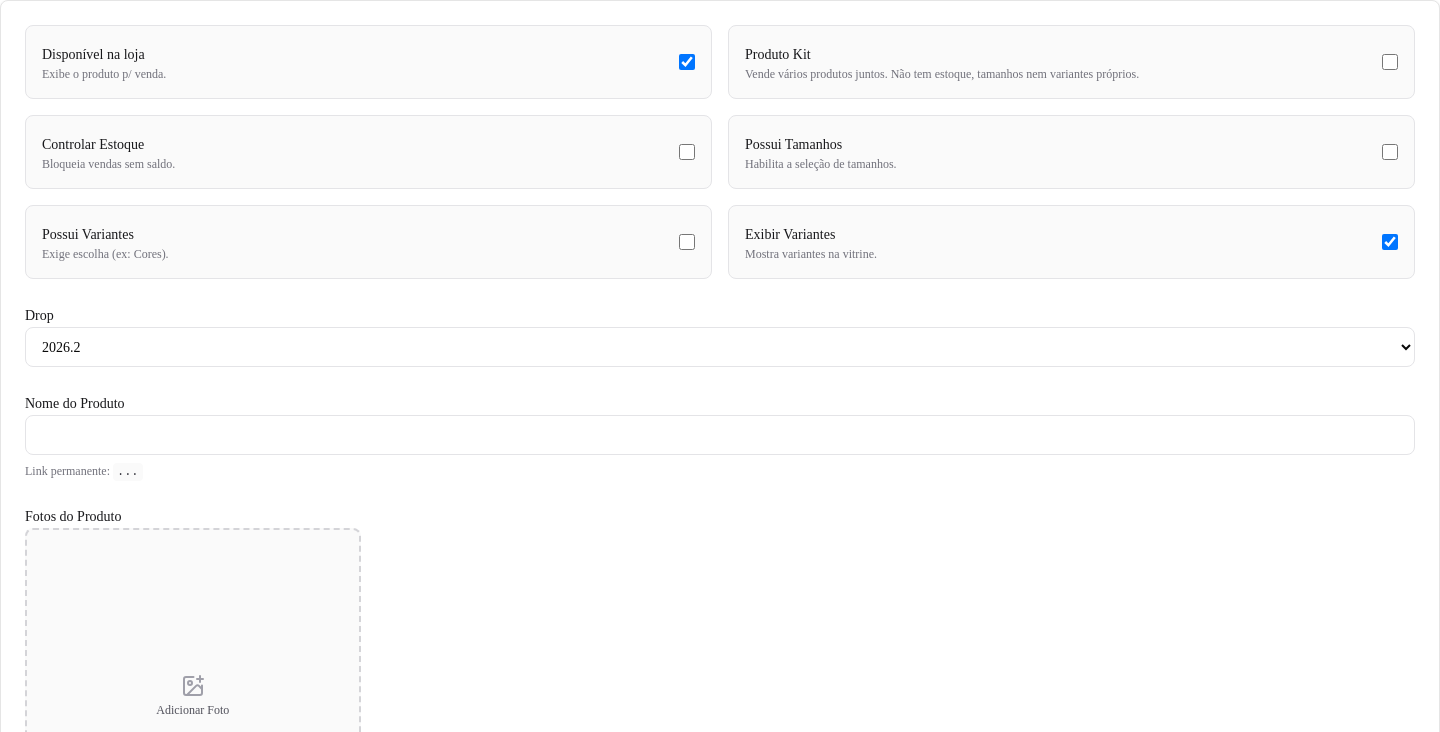
Test case: ProductForm bundle controls › hides the stock, size and variant controls for a bundle
Expected: the text "Controlar Estoque" is shown, [42,137,144,152]
Click the checkbox labelled "Produto Kit" at (1390, 62), box [1382,54,1398,70]
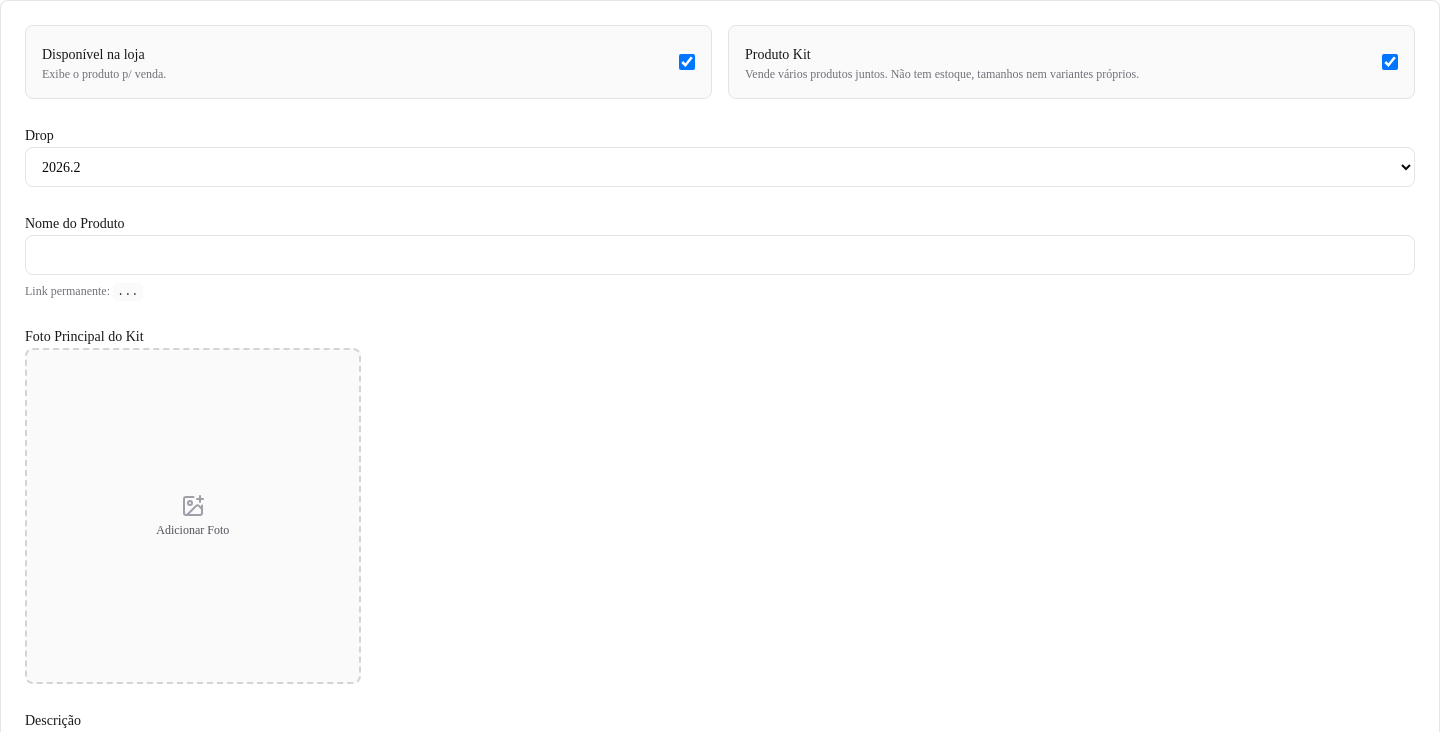
Expected: the text "Controlar Estoque" is gone
Expected: the text "Possui Tamanhos" is gone
Expected: the text "Possui Variantes" is gone
